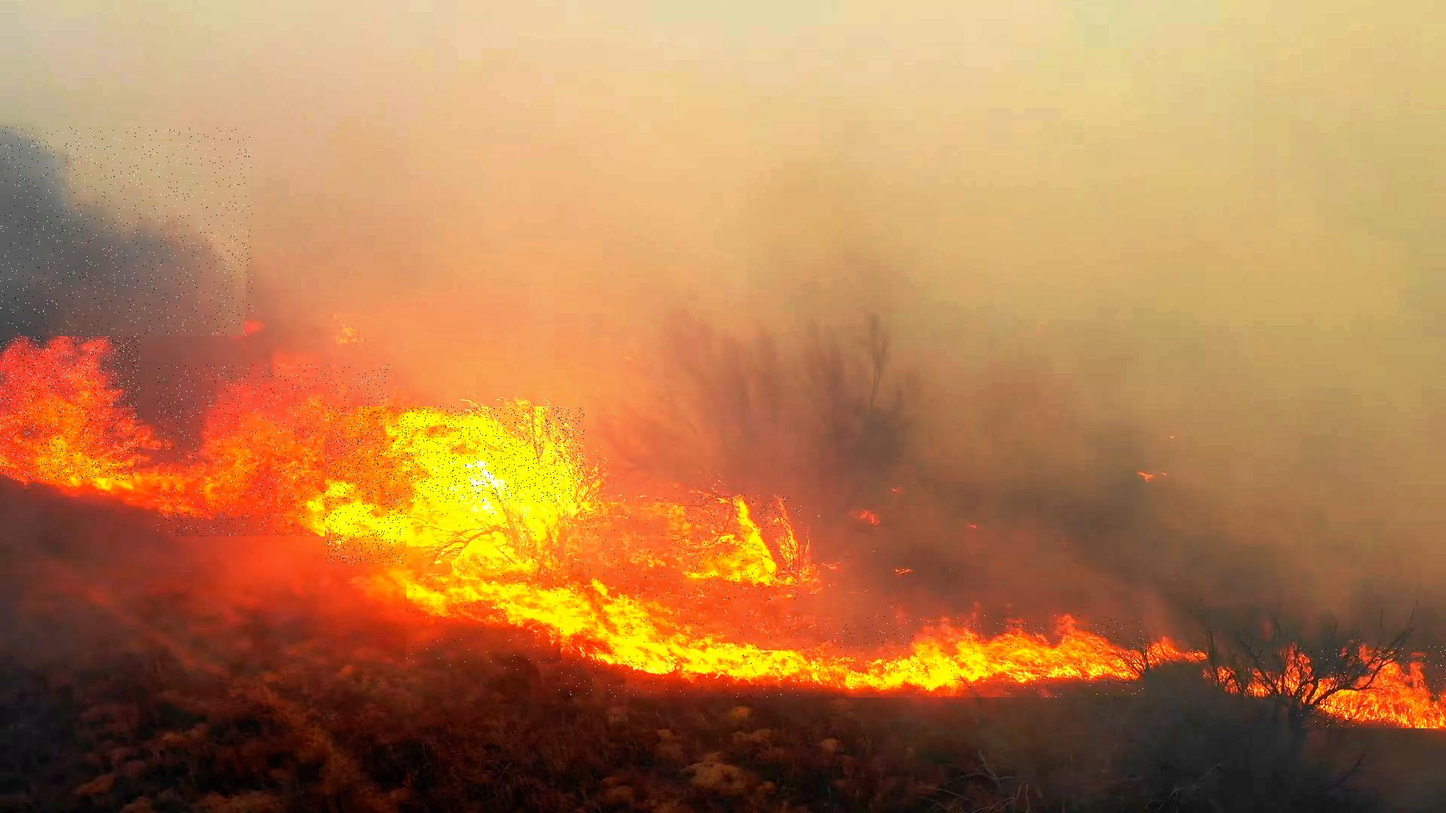fire: (559, 615, 1145, 697), (407, 503, 686, 672), (325, 407, 585, 565), (156, 364, 393, 536), (0, 330, 140, 480), (655, 495, 802, 600), (1289, 646, 1445, 728)
smoke: (0, 127, 253, 336)
